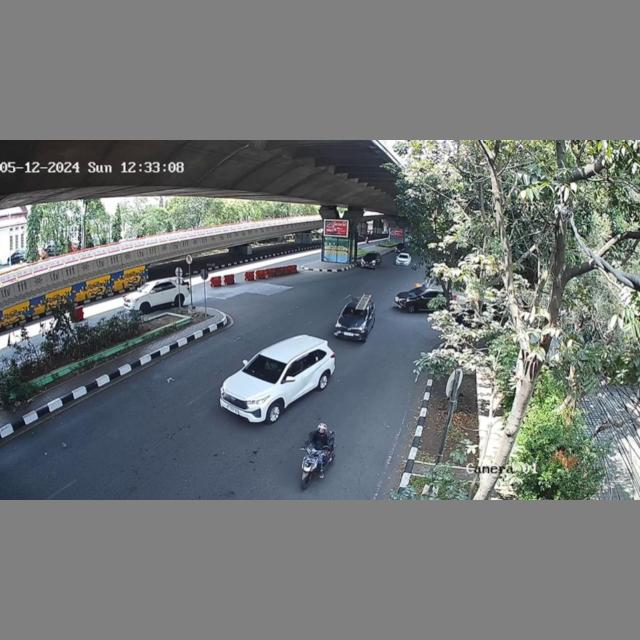windshield: (243, 354, 285, 384), (341, 303, 366, 320)
